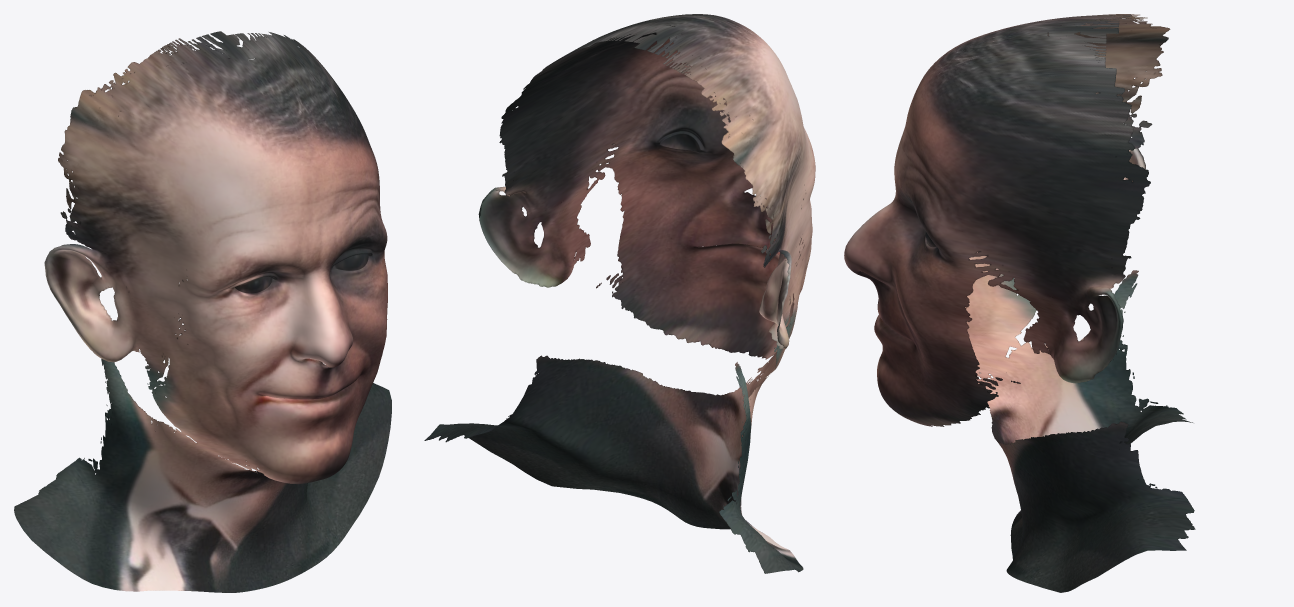
Rendered from whyyy.fbx.
3 views of the same model, side by side, from view 1: azimuth 30°, elevation 25°; view 2: azimuth 150°, elevation 25°; view 3: azimuth 270°, elevation 25° (orthographic). The views are drawn at different scales.
Visible parts, largest first — view 1: FBHead.001; view 2: FBHead.001; view 3: FBHead.001.
Part boxes in pixels (<box>): FBHead.001: <box>14,31,391,592</box>; FBHead.001: <box>424,14,815,573</box>; FBHead.001: <box>844,14,1195,592</box>.
Bounding box in the file's own units: 179 × 245 × 182.
1 material, 1 textured.
